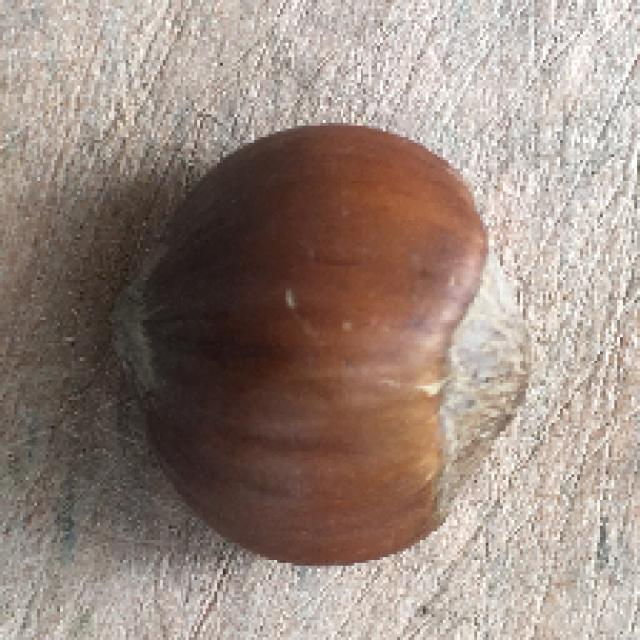qualityHazelnut: (108, 124, 532, 564)
